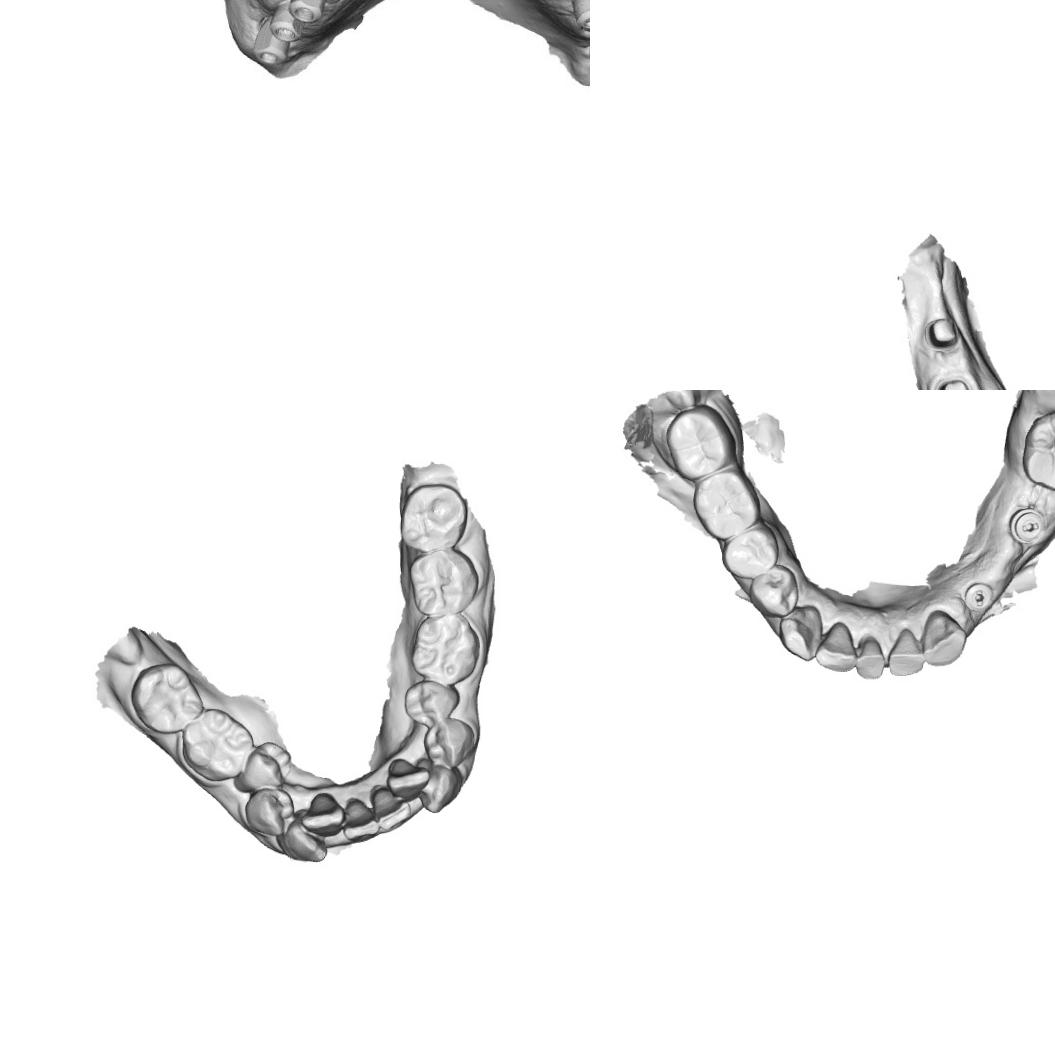abutment: (923, 316, 961, 354), (934, 373, 975, 390)
canine: (413, 757, 464, 816), (778, 600, 822, 662), (279, 814, 330, 863)
implant: (254, 22, 292, 68), (270, 3, 309, 43), (288, 0, 326, 22), (573, 0, 590, 33)
implant_minus: (1006, 506, 1046, 546), (963, 580, 994, 614)
incisor: (920, 608, 966, 668), (815, 618, 860, 674), (385, 757, 432, 804), (368, 784, 414, 832), (886, 627, 928, 678), (300, 790, 344, 837), (342, 797, 380, 844), (854, 634, 886, 681)
molar: (179, 706, 256, 782), (129, 660, 206, 735), (662, 403, 735, 482), (691, 465, 762, 542), (409, 610, 482, 684), (406, 546, 480, 615), (398, 483, 470, 553), (1020, 407, 1055, 493)
premolar: (720, 520, 782, 582), (420, 715, 476, 770), (748, 562, 800, 620), (402, 679, 463, 728), (238, 738, 294, 791), (242, 786, 296, 838)
